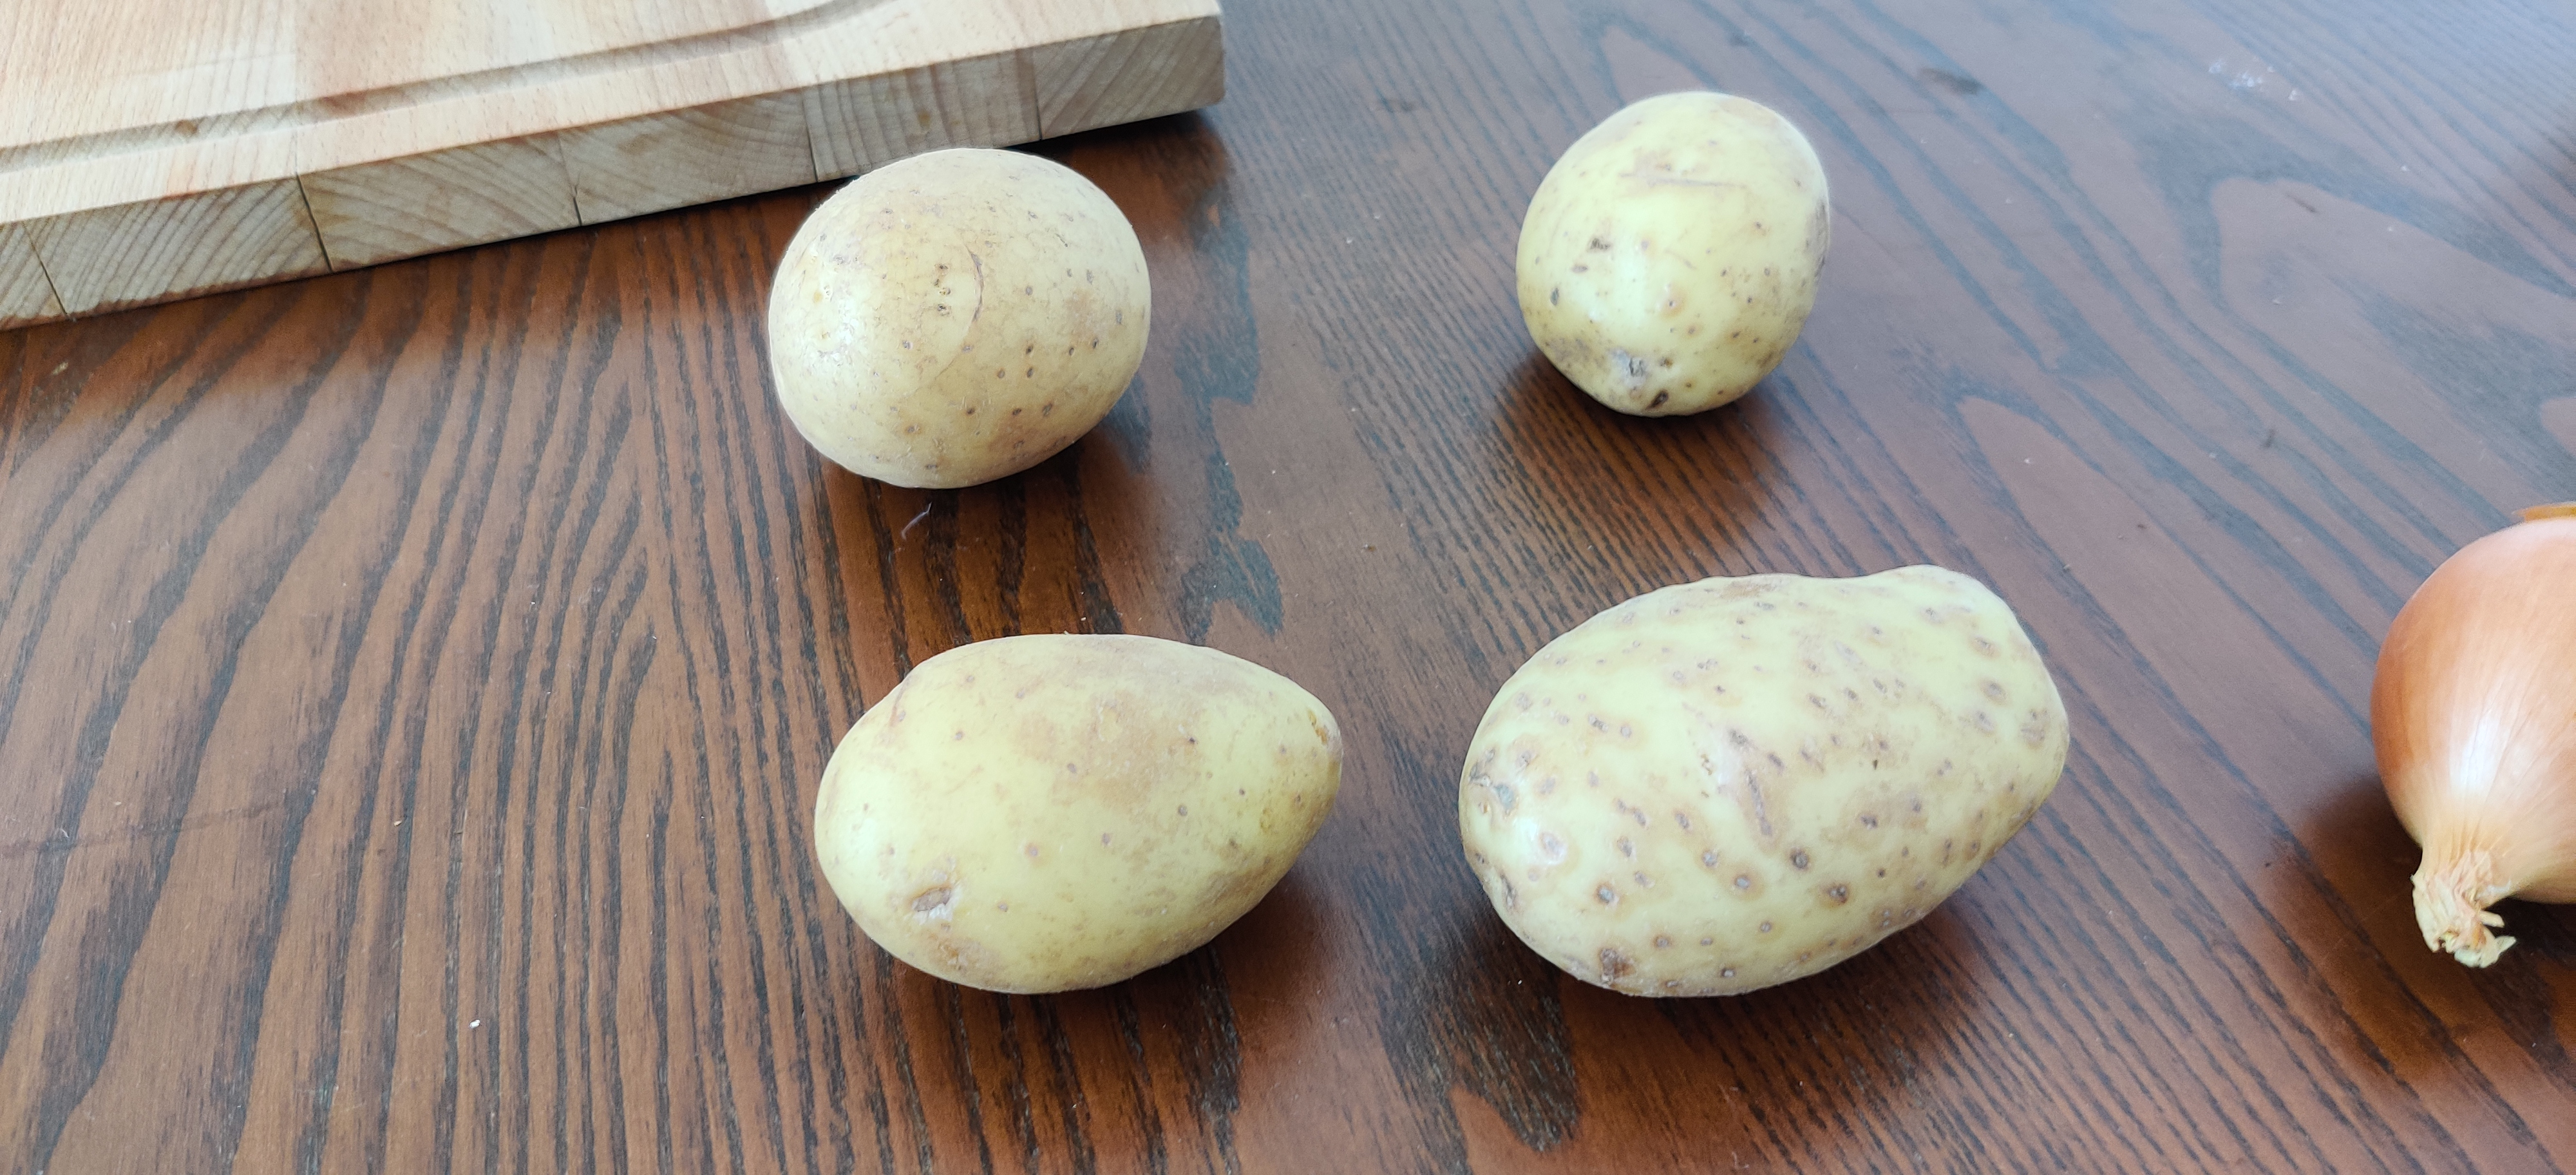Kartoffel: (1456, 565, 2070, 996), (812, 634, 1341, 991), (769, 150, 1152, 490), (1518, 92, 1833, 417)
